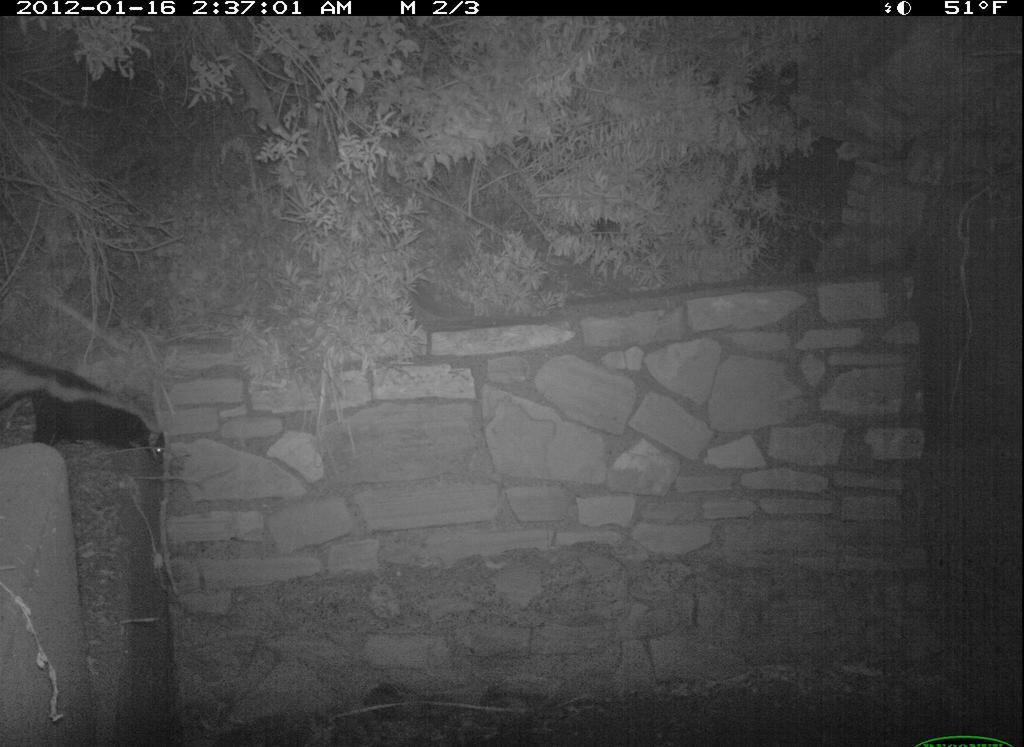skunk: (3, 349, 171, 470)
